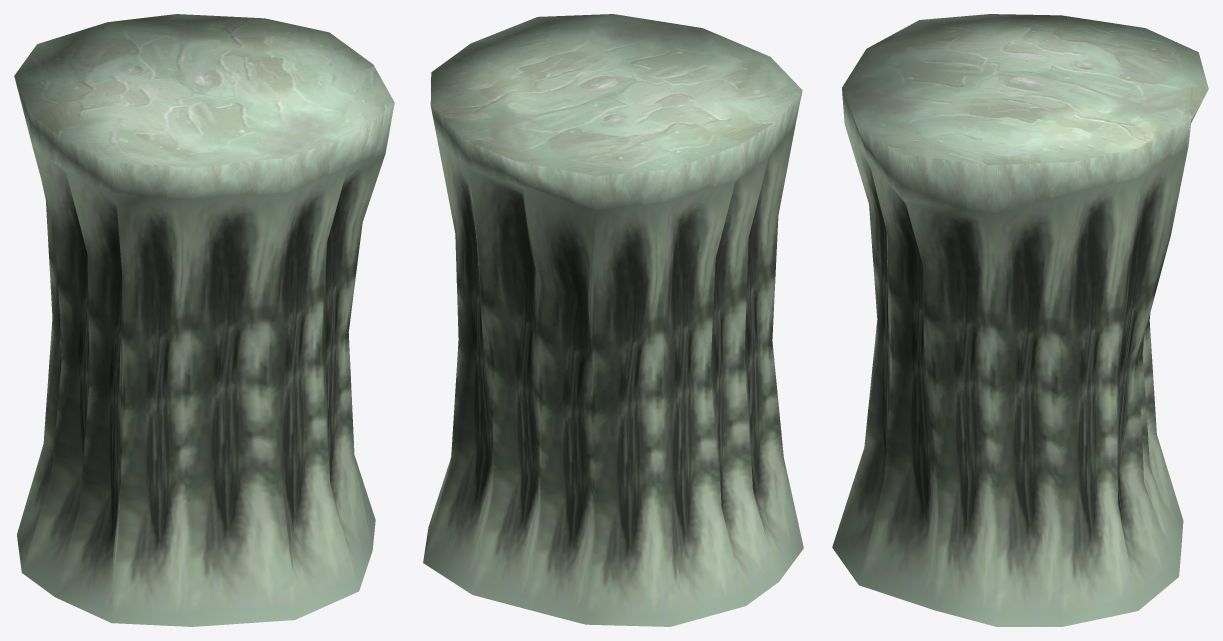
File: INST_TROLLHOLE_PLATFORM4M.fbx
The picture shows the model from 3 angles, left to right: view 1: azimuth 30°, elevation 25°; view 2: azimuth 150°, elevation 25°; view 3: azimuth 270°, elevation 25°; orthographic projection.
Parts seen in each view (by area): view 1: INST_TROLLHOLE_PLATFORM4M; view 2: INST_TROLLHOLE_PLATFORM4M; view 3: INST_TROLLHOLE_PLATFORM4M.
Part boxes in pixels (x1,y1,x2,y2): INST_TROLLHOLE_PLATFORM4M: (14, 14, 394, 626); INST_TROLLHOLE_PLATFORM4M: (423, 14, 803, 626); INST_TROLLHOLE_PLATFORM4M: (832, 14, 1208, 626).
Size of the model in its own units: 29320 by 41119 by 29959.
Materials: 2 (2 with a texture image).
